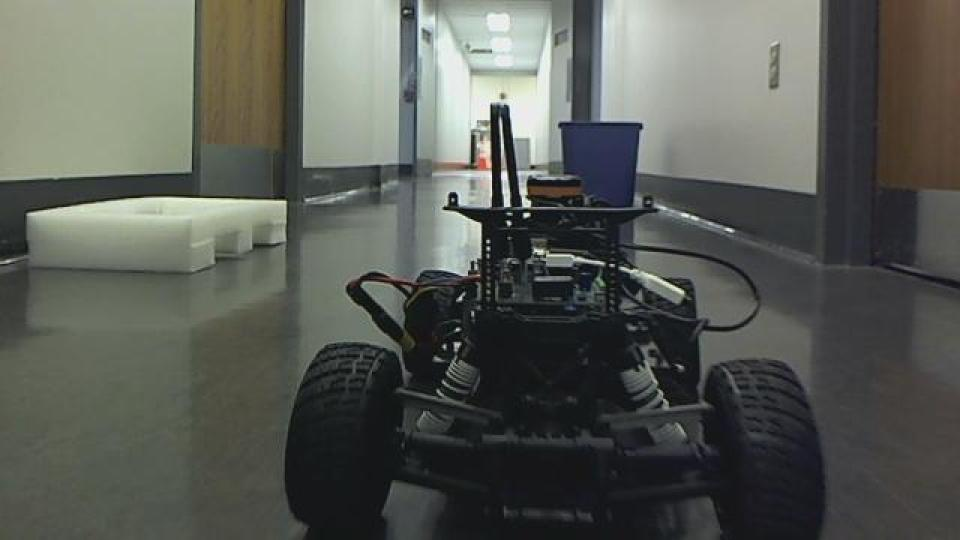car: (279, 101, 829, 537)
